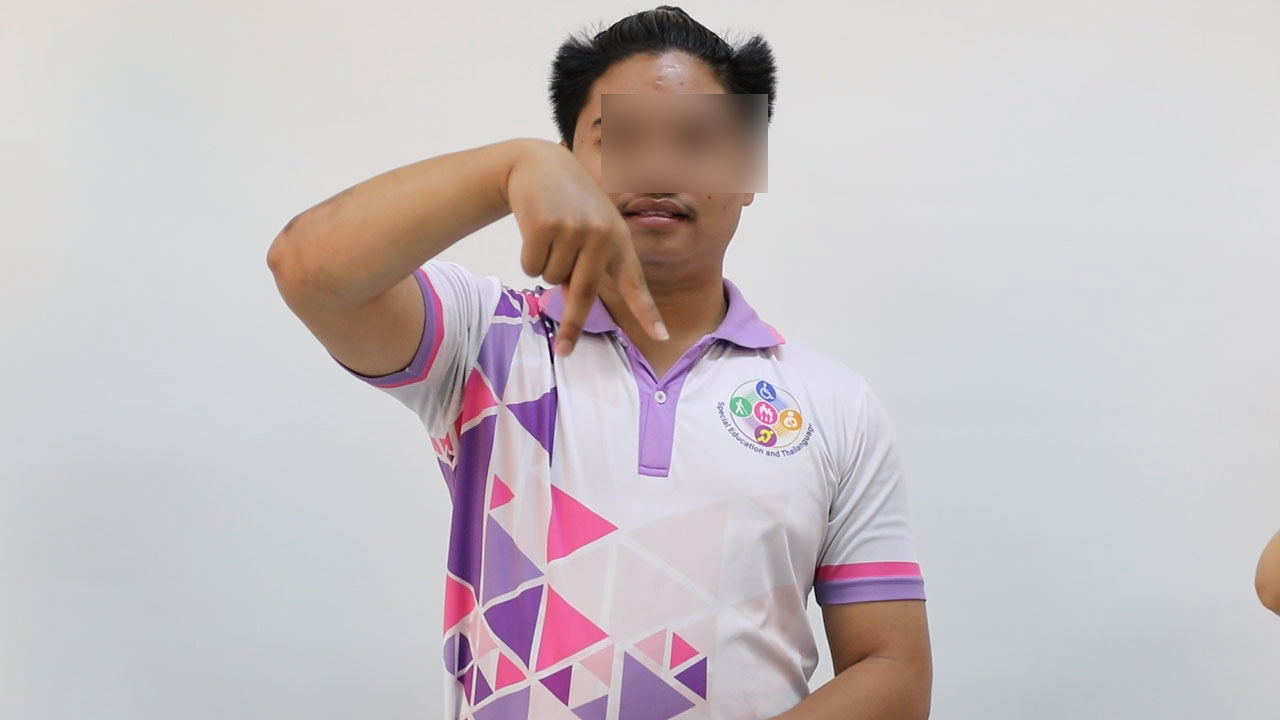por: (492, 129, 673, 363)
